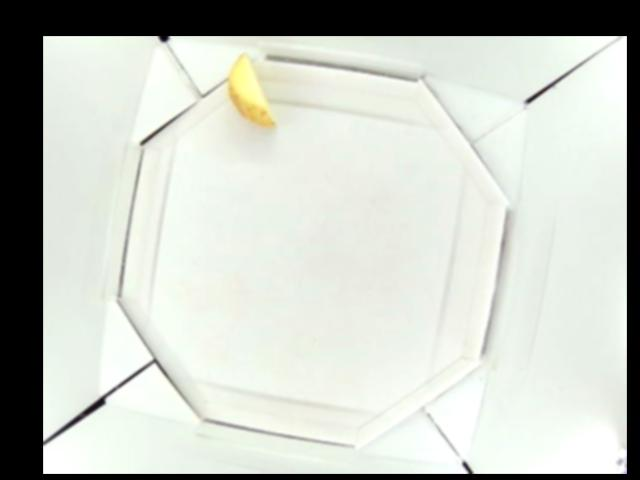Potato: (229, 54, 277, 128)
